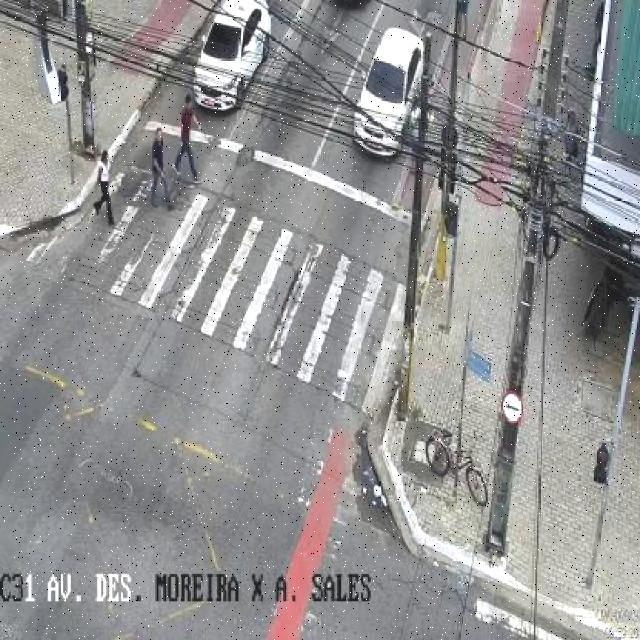bicycle: (425, 431, 486, 506)
car: (354, 28, 424, 157), (194, 0, 271, 111)
pedestrian: (150, 129, 176, 208), (175, 95, 198, 182), (94, 150, 114, 224)
traffic-lights: (594, 442, 610, 483)
